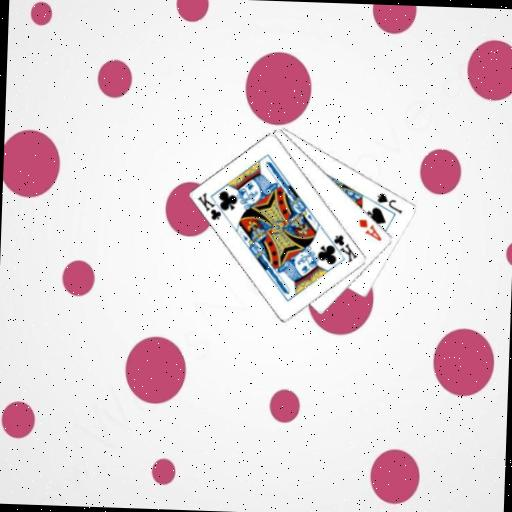AD: (355, 216, 383, 242)
JS: (373, 189, 404, 215)
KC: (324, 231, 360, 264), (194, 189, 230, 222)
